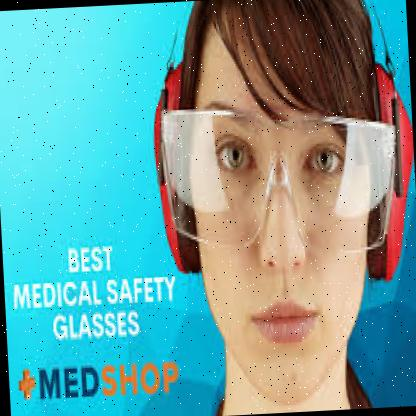oculos: (160, 96, 401, 264)
